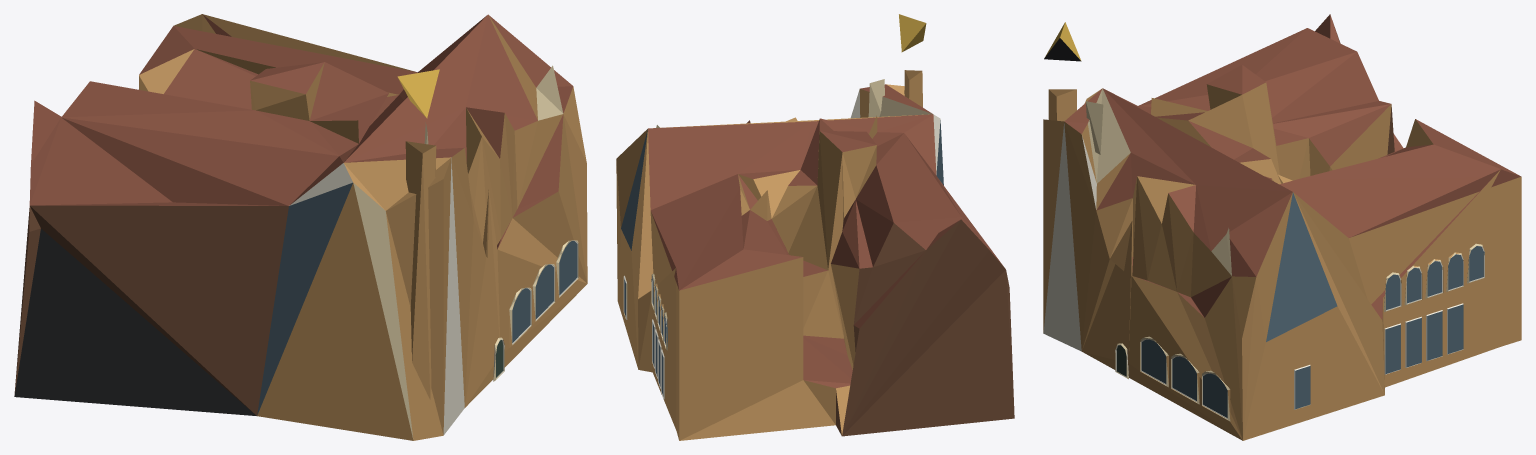
Rendered from american-hotel.lod2.glb.
The picture shows the model from 3 angles, left to right: view 1: azimuth 30°, elevation 25°; view 2: azimuth 150°, elevation 25°; view 3: azimuth 270°, elevation 25°; orthographic projection. The views are drawn at different scales.
Visible parts, largest first — view 1: lod2; view 2: lod2; view 3: lod2.
Boxes of the visible parts, <box> form: lod2: <box>14,14,587,440</box>; lod2: <box>616,14,1014,440</box>; lod2: <box>1043,14,1521,440</box>.
Size of the model in its own units: 62.28 by 39.08 by 56.62.
